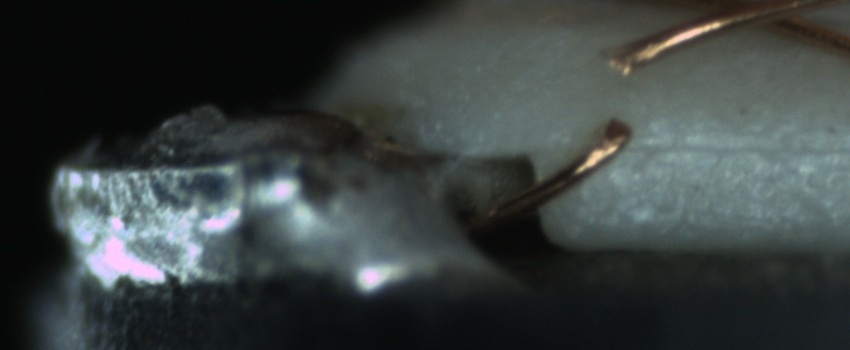CL: (688, 1, 831, 37)
DL: (631, 118, 849, 182)
